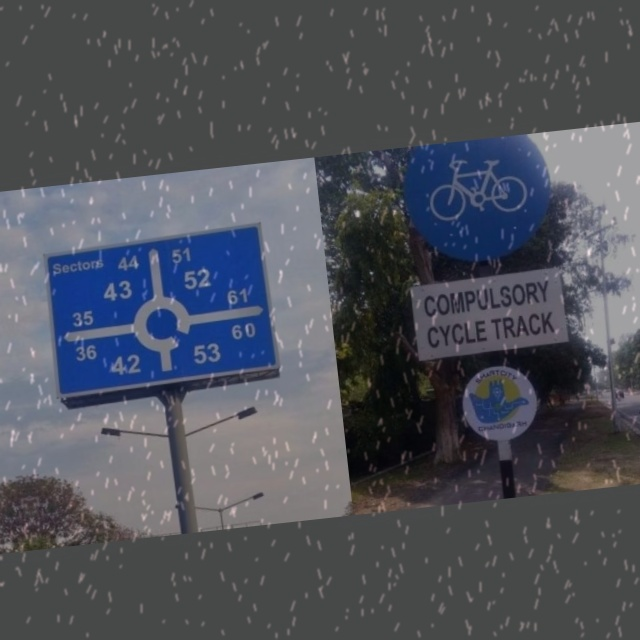Compulsory_Cycle_Track: (404, 133, 548, 267)
